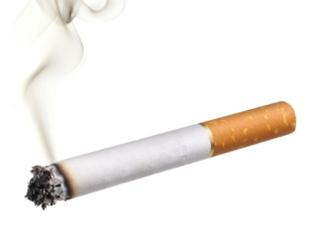cigarette: (20, 86, 307, 215)
